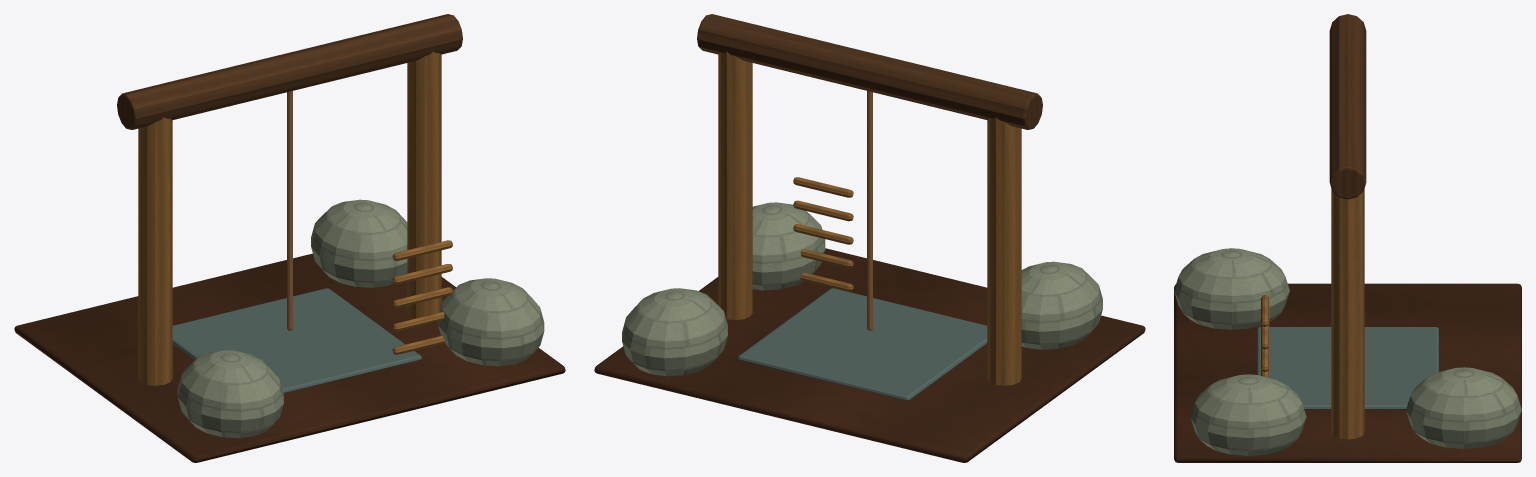
The model's file is excavation.glb.
3 renders of one model, left to right at view 1: azimuth 30°, elevation 25°; view 2: azimuth 150°, elevation 25°; view 3: azimuth 270°, elevation 25°, orthographic. The views are drawn at different scales.
Parts seen in each view (by area): view 1: excavation, shaft, hoist_beam, hoist_post, hoist_post.001, unearthed_stone, unearthed_stone.002, unearthed_stone.001, rope; view 2: excavation, shaft, hoist_beam, hoist_post, hoist_post.001, unearthed_stone.001, unearthed_stone, unearthed_stone.002, rope; view 3: excavation, shaft, hoist_post.001, unearthed_stone.002, unearthed_stone.001, unearthed_stone, hoist_beam.
Boxes of the visible parts, left/top/right/bottom form: excavation: left=14, top=253, right=565, bottom=462; shaft: left=172, top=288, right=421, bottom=393; hoist_beam: left=117, top=14, right=462, bottom=129; hoist_post: left=138, top=117, right=172, bottom=385; hoist_post.001: left=407, top=51, right=441, bottom=318; unearthed_stone: left=177, top=350, right=283, bottom=438; unearthed_stone.002: left=438, top=278, right=544, bottom=366; unearthed_stone.001: left=311, top=199, right=407, bottom=287; rope: left=287, top=91, right=292, bottom=330; excavation: left=594, top=248, right=1145, bottom=462; shaft: left=738, top=288, right=987, bottom=400; hoist_beam: left=697, top=14, right=1042, bottom=129; hoist_post: left=987, top=117, right=1021, bottom=385; hoist_post.001: left=718, top=51, right=752, bottom=320; unearthed_stone.001: left=622, top=288, right=727, bottom=376; unearthed_stone: left=1021, top=261, right=1102, bottom=349; unearthed_stone.002: left=752, top=202, right=825, bottom=290; rope: left=867, top=91, right=872, bottom=330; excavation: left=1174, top=283, right=1521, bottom=462; shaft: left=1257, top=327, right=1438, bottom=409; hoist_post.001: left=1331, top=189, right=1364, bottom=439; unearthed_stone.002: left=1190, top=374, right=1306, bottom=456; unearthed_stone.001: left=1406, top=367, right=1521, bottom=448; unearthed_stone: left=1174, top=248, right=1289, bottom=329; hoist_beam: left=1329, top=14, right=1366, bottom=199.
Bounding box in the file's own units: 2.55 × 1.96 × 2.1.
Materials: 6 (5 with a texture image).
